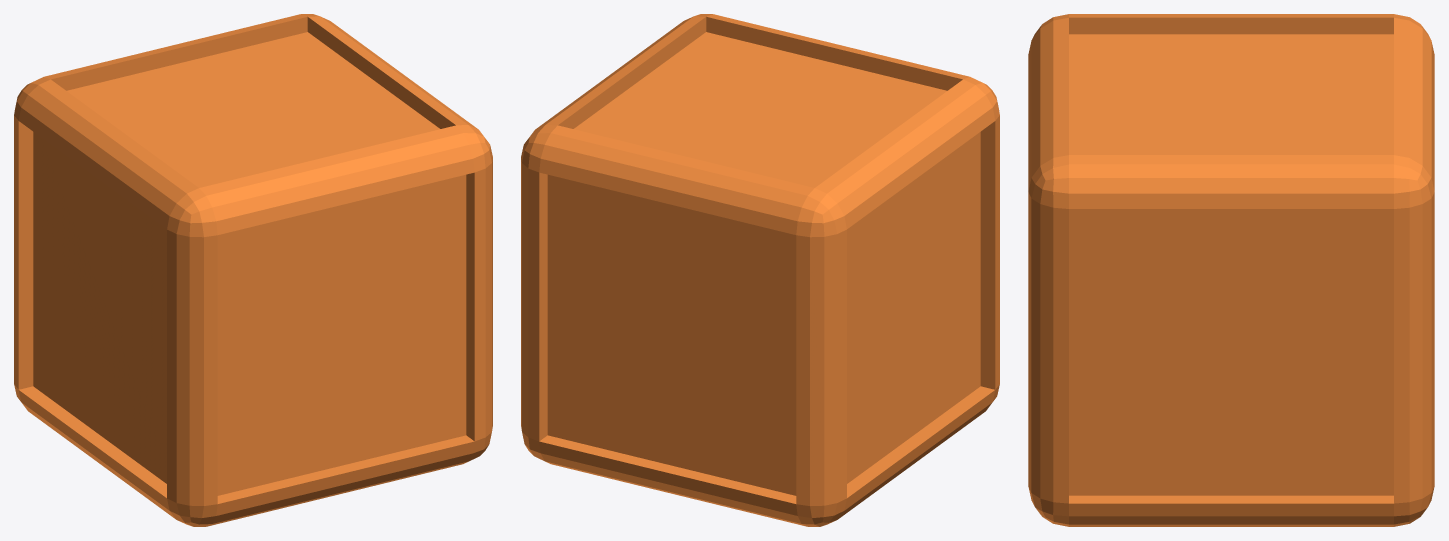
3 renders of one model, left to right at view 1: azimuth 30°, elevation 25°; view 2: azimuth 150°, elevation 25°; view 3: azimuth 270°, elevation 25°, orthographic. The views are drawn at different scales.
Visible parts, largest first — view 1: Cube; view 2: Cube; view 3: Cube.
Part boxes in pixels (bbox=[...]): Cube: bbox=[14, 14, 492, 526]; Cube: bbox=[521, 14, 999, 526]; Cube: bbox=[1028, 14, 1434, 526].
Bounding box in the file's own units: 2 × 2 × 2.
